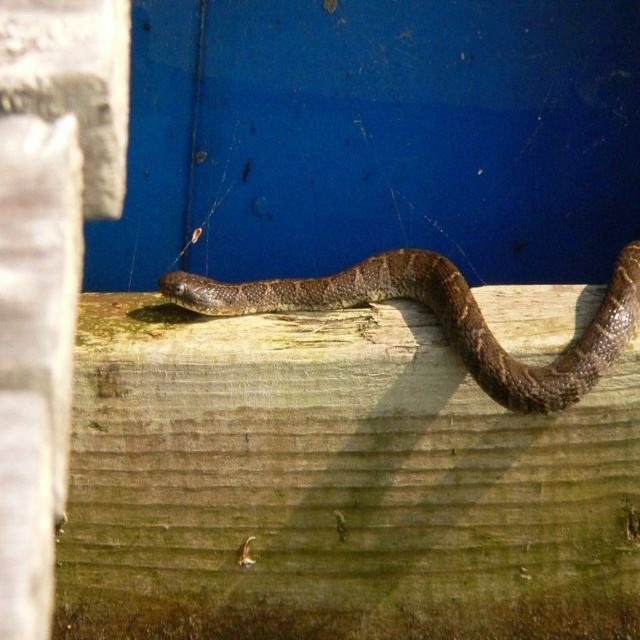Snake: (161, 242, 640, 412)
